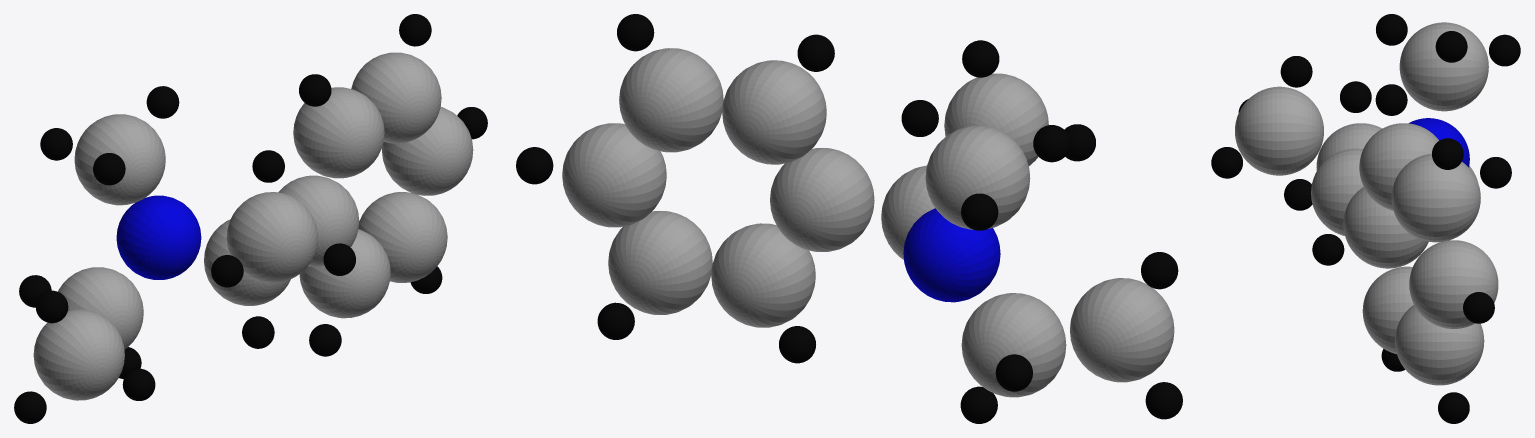
Rendered from Diphenhydramine.glb.
The picture shows the model from 3 angles, left to right: view 1: azimuth 30°, elevation 25°; view 2: azimuth 150°, elevation 25°; view 3: azimuth 270°, elevation 25°; orthographic projection. The views are drawn at different scales.
Parts seen in each view (by area): view 1: world; view 2: world; view 3: world.
Part boxes in pixels (x1,y1,x2,y2): world: (14, 14, 487, 423); world: (516, 14, 1182, 423); world: (1211, 14, 1520, 423).
Size of the model in its own units: 9.27 by 4.94 by 4.85.
